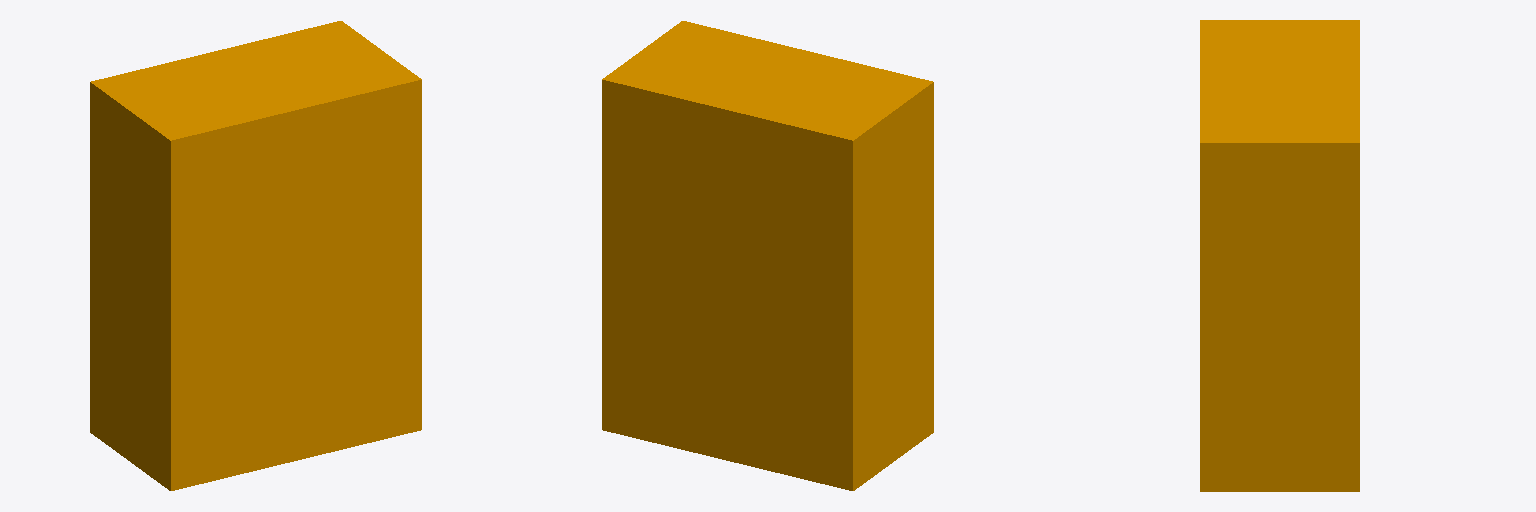
The robot description file, URDF, robot "soda_original.off":
<?xml version="1.0"?>
<robot name="soda_original.off">
	<link name="soda_original.off">
		<inertial>
			<!--origin xyz="0 0 0" rpy="0 0 0" /-->
			<mass value="0.5" />
			<!--inertia ixx="0.000360" ixy="0" ixz="0" iyy="0.0000615" iyz="0" izz="0.00036" /-->
		</inertial>
    		<visual>
	      		<!--origin rpy="0 0 0" xyz="0 0 0"/-->
      			<geometry>
        			<mesh filename="soda_original.off.obj"/>
      			</geometry>
         	</visual>
    		<collision>
      			<!--origin rpy="0 0 0" xyz="0 0 0"/-->
      			<geometry>
        			<mesh filename="soda_original.off.obj"/>
      			</geometry>
    		</collision>
	</link>
</robot>

--- What the picture shows (computed from the rendered views, not written in the file) ---
The picture shows the robot from 3 angles, left to right: view 1: azimuth 30°, elevation 25°; view 2: azimuth 150°, elevation 25°; view 3: azimuth 270°, elevation 25°; orthographic projection.
Robot: soda_original.off — 1 links, 0 joints (none); root link soda_original.off; default pose: all joints at 0.
Visible links, largest first — view 1: soda_original.off; view 2: soda_original.off; view 3: soda_original.off.
Boxes of the visible links, box(x1,y1,x2,y2) form: soda_original.off: box(90, 21, 421, 490); soda_original.off: box(602, 21, 933, 490); soda_original.off: box(1200, 20, 1359, 491).
Bounding box of the posed robot: 9 × 5 × 12 m (x, y, z).
1 mesh visuals loaded from 1 distinct referenced files (1 OBJ).